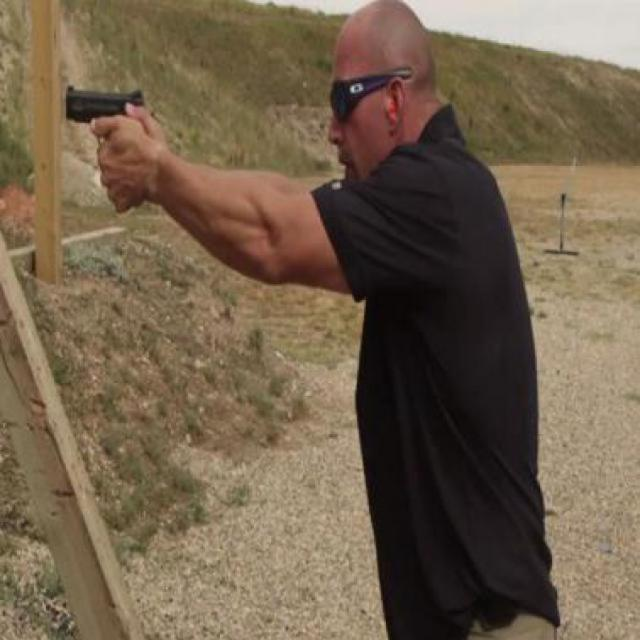pistol: (60, 84, 148, 208)
